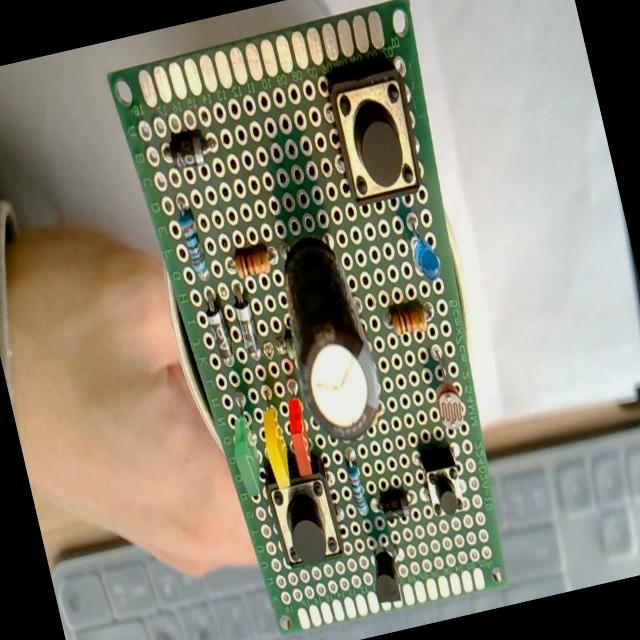Electrolytic capacitor: (265, 218, 389, 450)
cds: (421, 338, 472, 441)
diode: (202, 298, 236, 369), (163, 128, 219, 170), (232, 292, 262, 360), (381, 491, 412, 523)
led: (222, 389, 270, 502), (256, 403, 295, 492), (282, 396, 318, 481), (402, 212, 442, 282)
resistor: (177, 208, 211, 282), (344, 459, 369, 517), (232, 244, 272, 280), (388, 302, 428, 338)
switch: (322, 59, 428, 208), (261, 452, 346, 572), (418, 444, 467, 518)
transistor: (367, 548, 404, 605)
